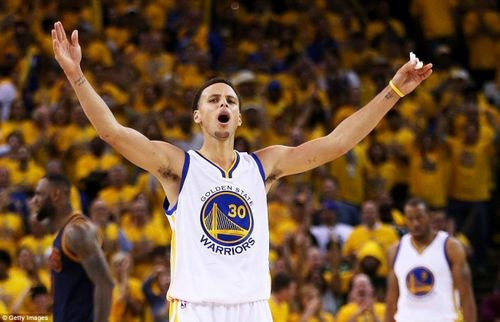no-phone: (48, 18, 83, 77)
